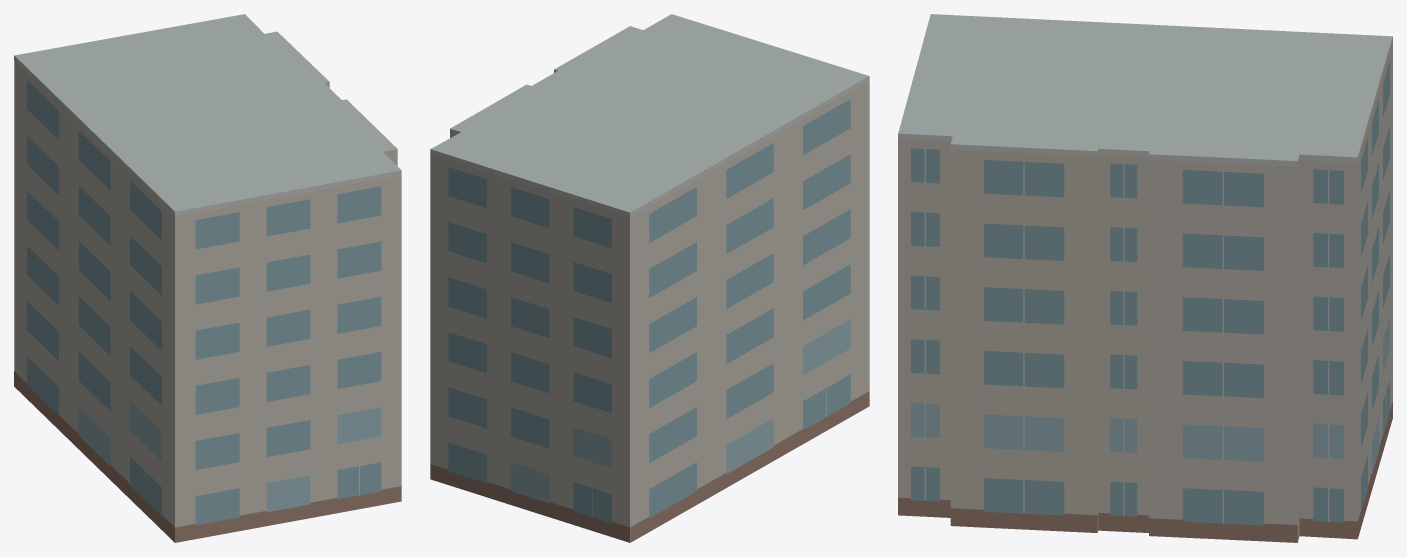
File: survey-upis-33025352.glb
3 renders of one model, left to right at view 1: azimuth 30°, elevation 25°; view 2: azimuth 150°, elevation 25°; view 3: azimuth 270°, elevation 25°, orthographic. The views are drawn at different scales.
Parts seen in each view (by area): view 1: survey-upis-33025352.tmp; view 2: survey-upis-33025352.tmp; view 3: survey-upis-33025352.tmp.
Boxes of the visible parts, x1,y1,x2,y2 form: survey-upis-33025352.tmp: (14, 14, 401, 542); survey-upis-33025352.tmp: (430, 14, 869, 542); survey-upis-33025352.tmp: (898, 14, 1392, 542).
Bounding box in the file's own units: 13.89 × 16.8 × 19.74.
